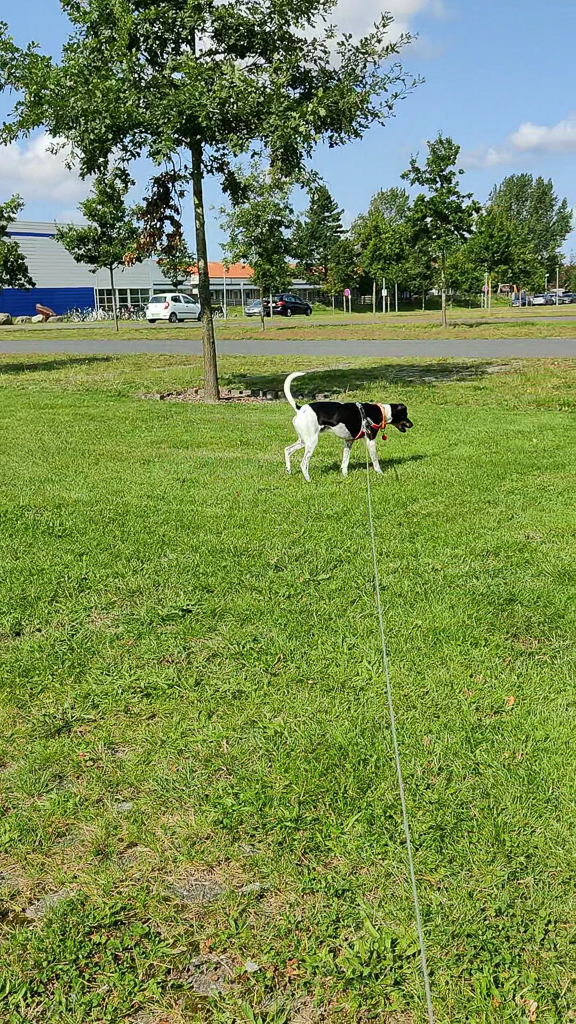Dog: (276, 363, 424, 490)
